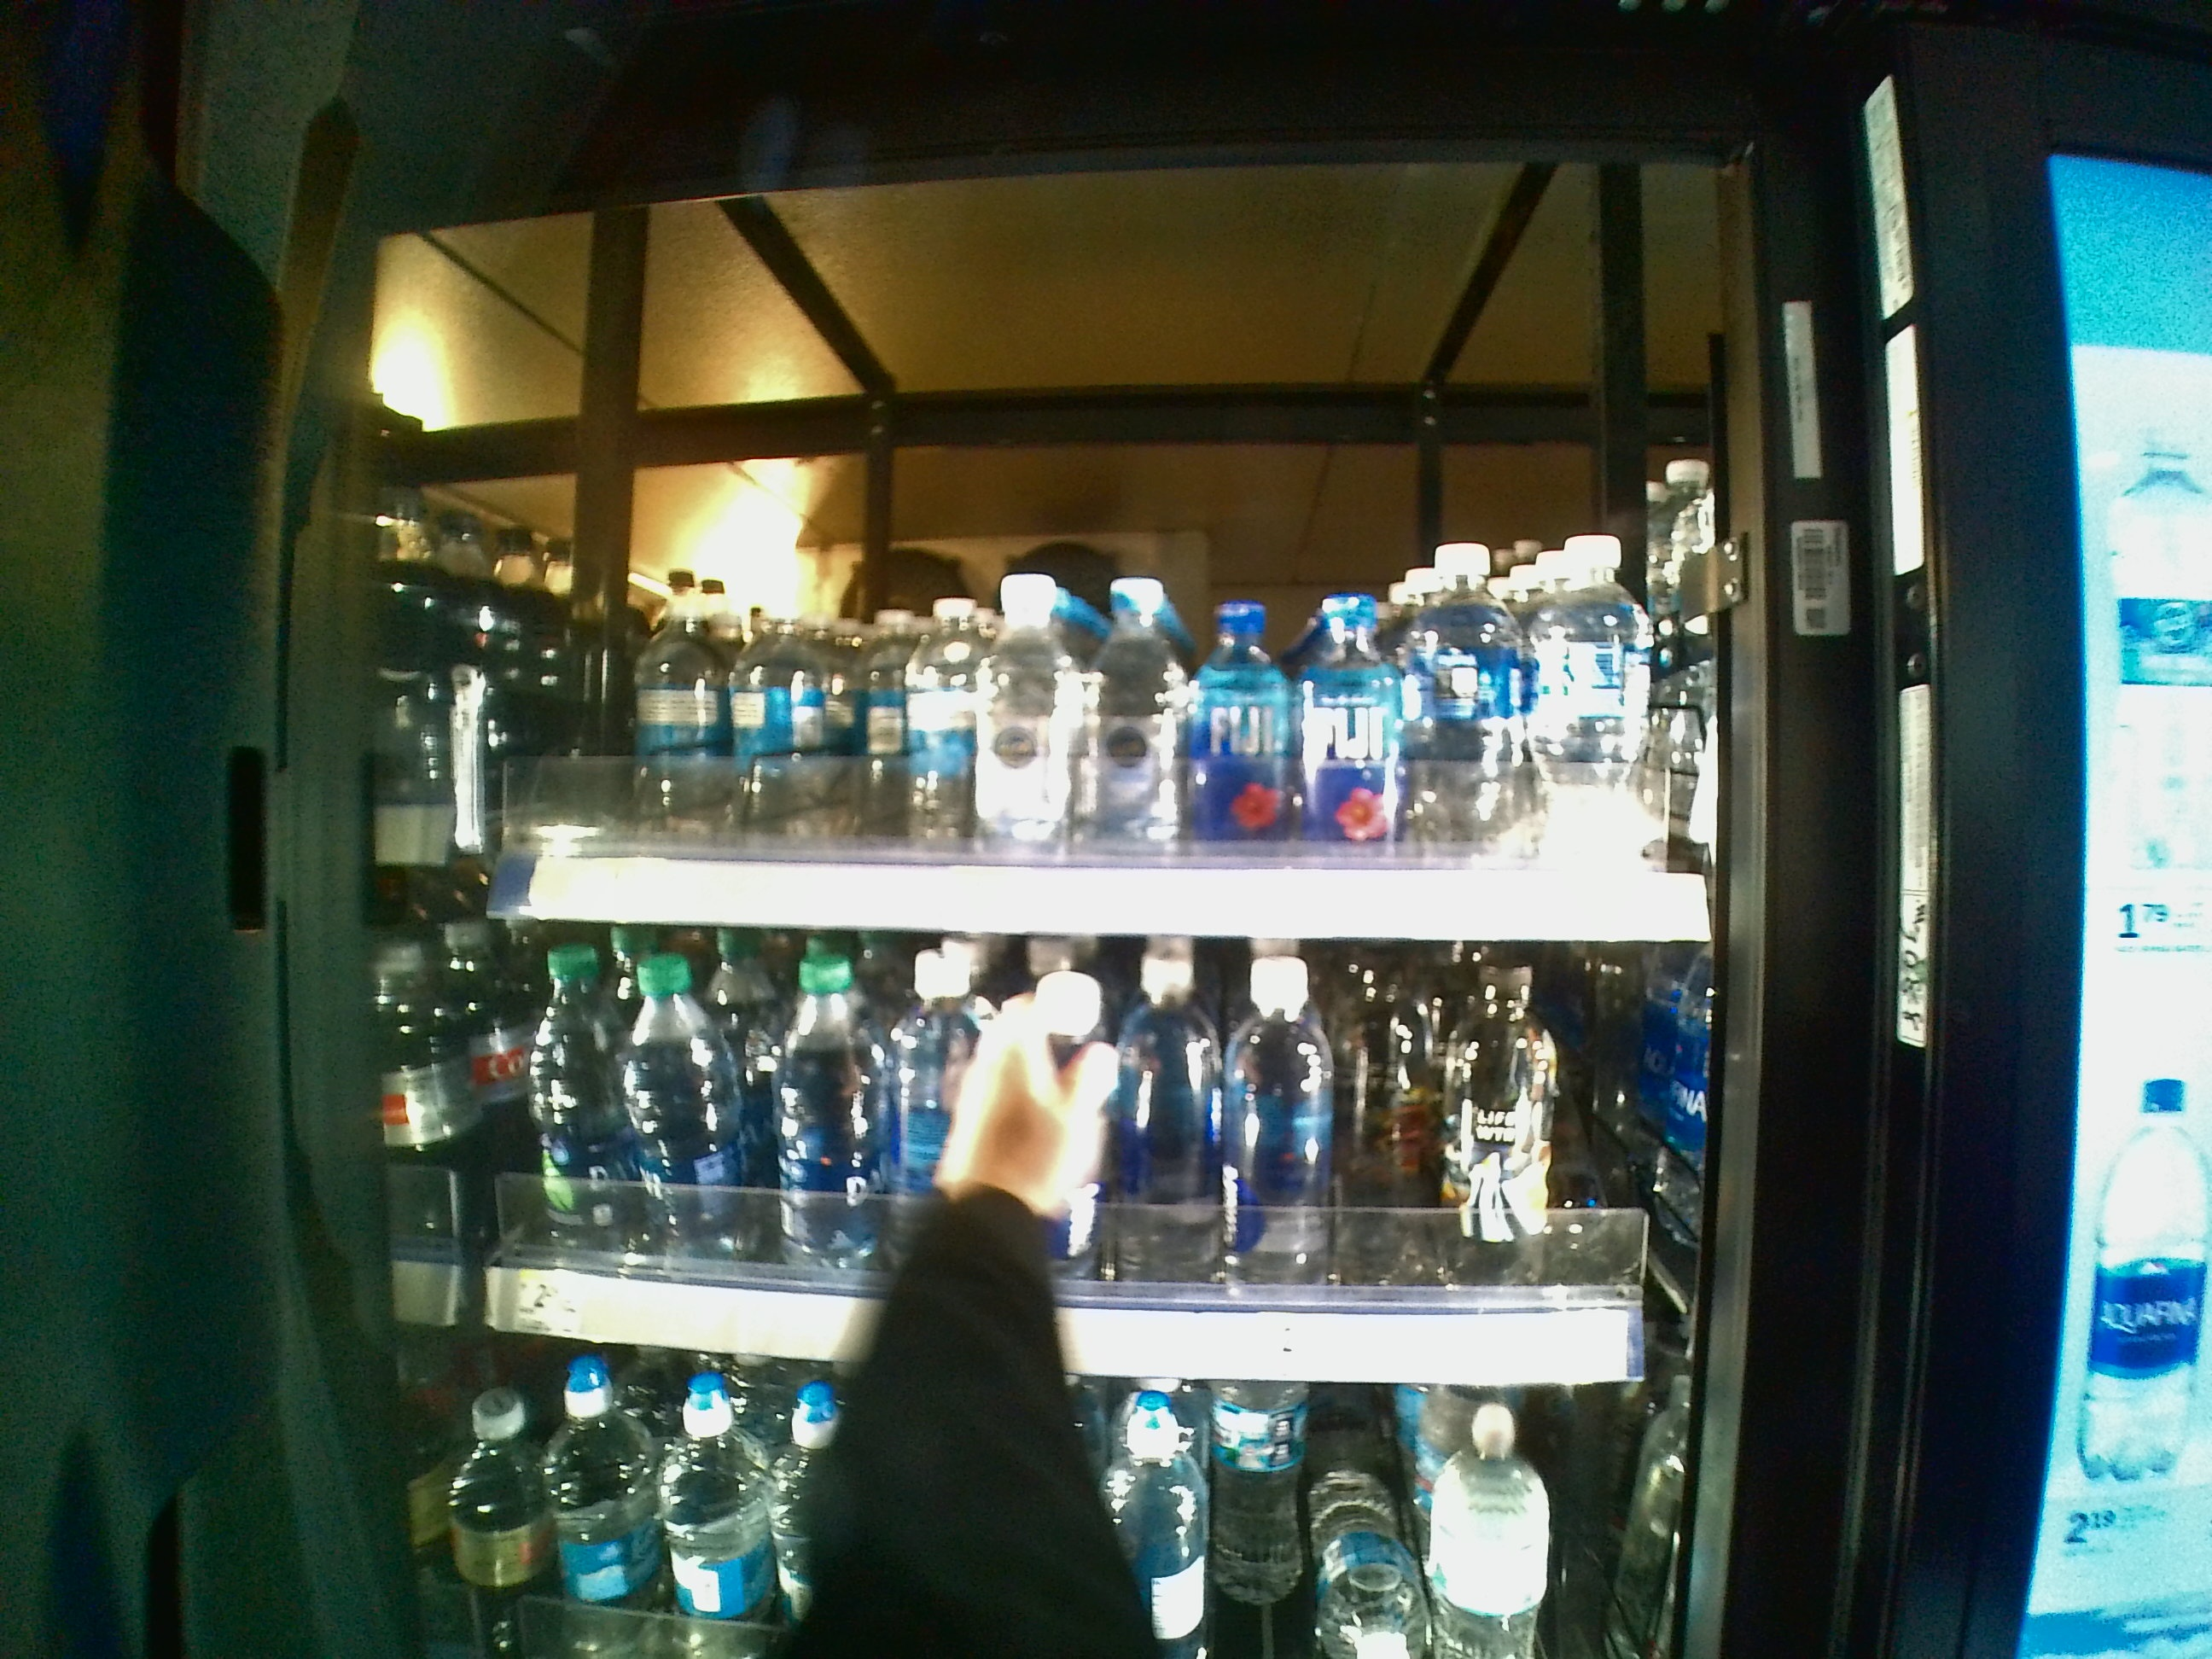shelf: (421, 443, 1743, 939)
